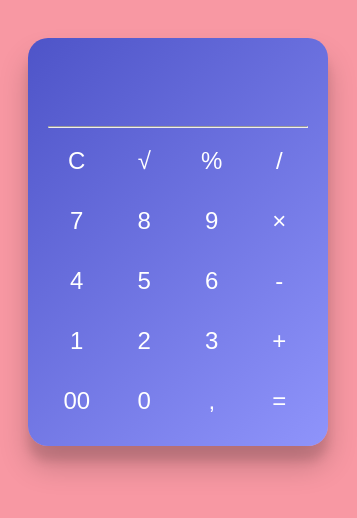
Calculator › handles button click and displays results correctly
Click the button "1" at (77, 341), box [48,316,106,366]
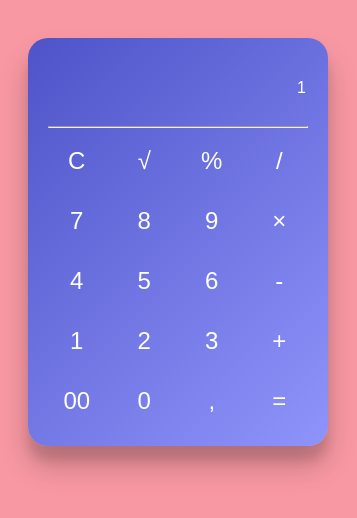
Click the button "+" at (279, 341), box [250,316,308,366]
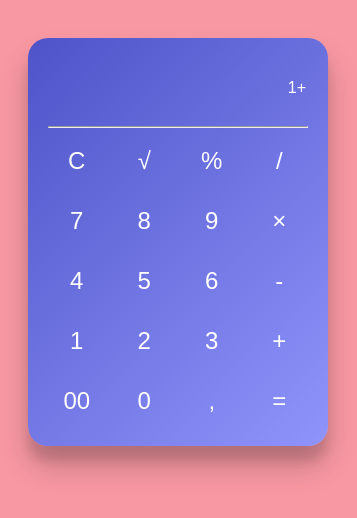
Click the button "2" at (144, 341), box [116,316,173,366]
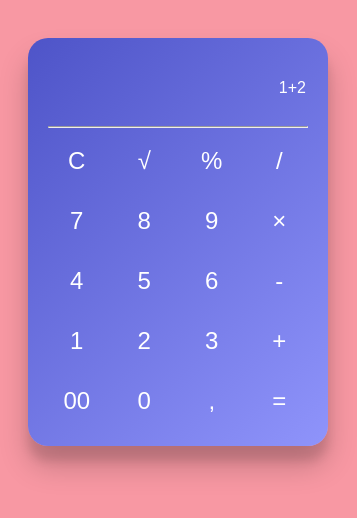
Click the button "=" at (279, 401), box [250,376,308,426]
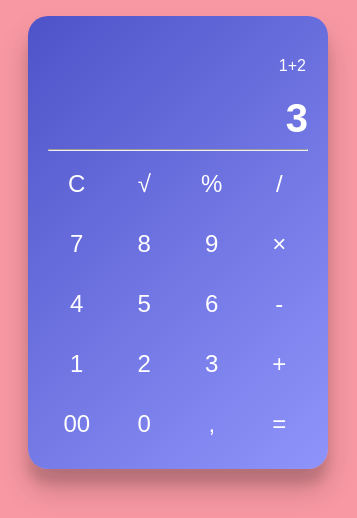
Expected: the text with test id "result" reads "3", [286,96,308,140]
